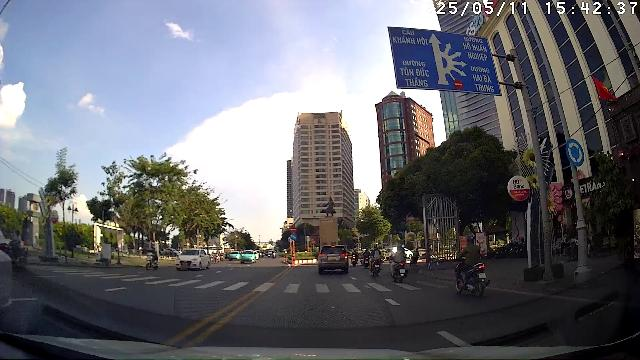303-noi-giao-nhau-chay-theo-vong-xuyen: (566, 139, 584, 167)
